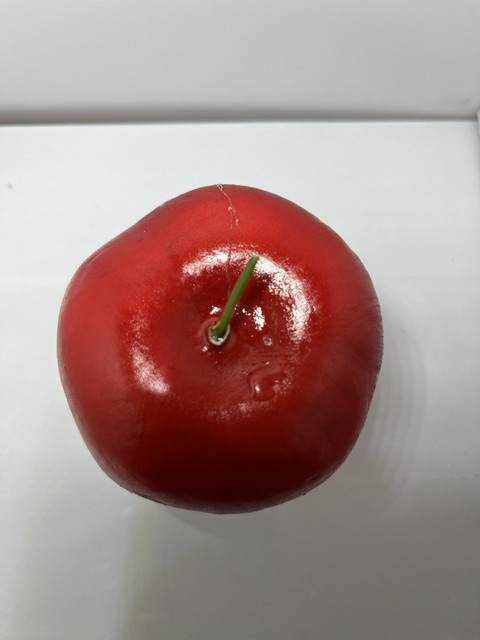Tao: (45, 171, 395, 521)
